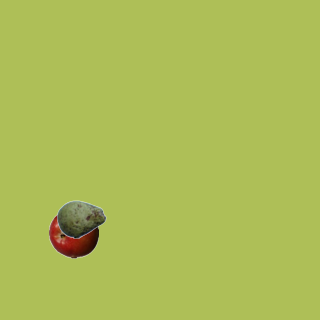Apple Braeburn: (48, 208, 98, 258)
Pear Stone: (56, 194, 106, 244)
